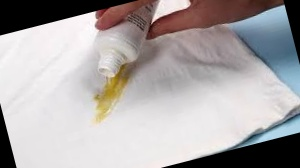mustard: (90, 73, 137, 117)
